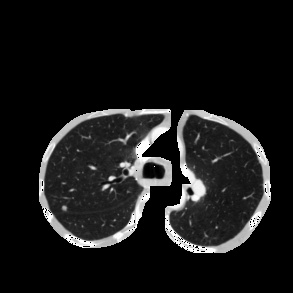PN: (61, 205, 67, 211)
